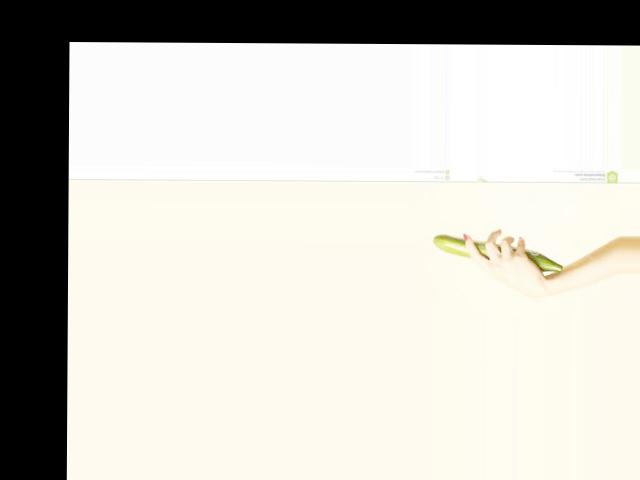cucumber: (433, 233, 564, 271)
